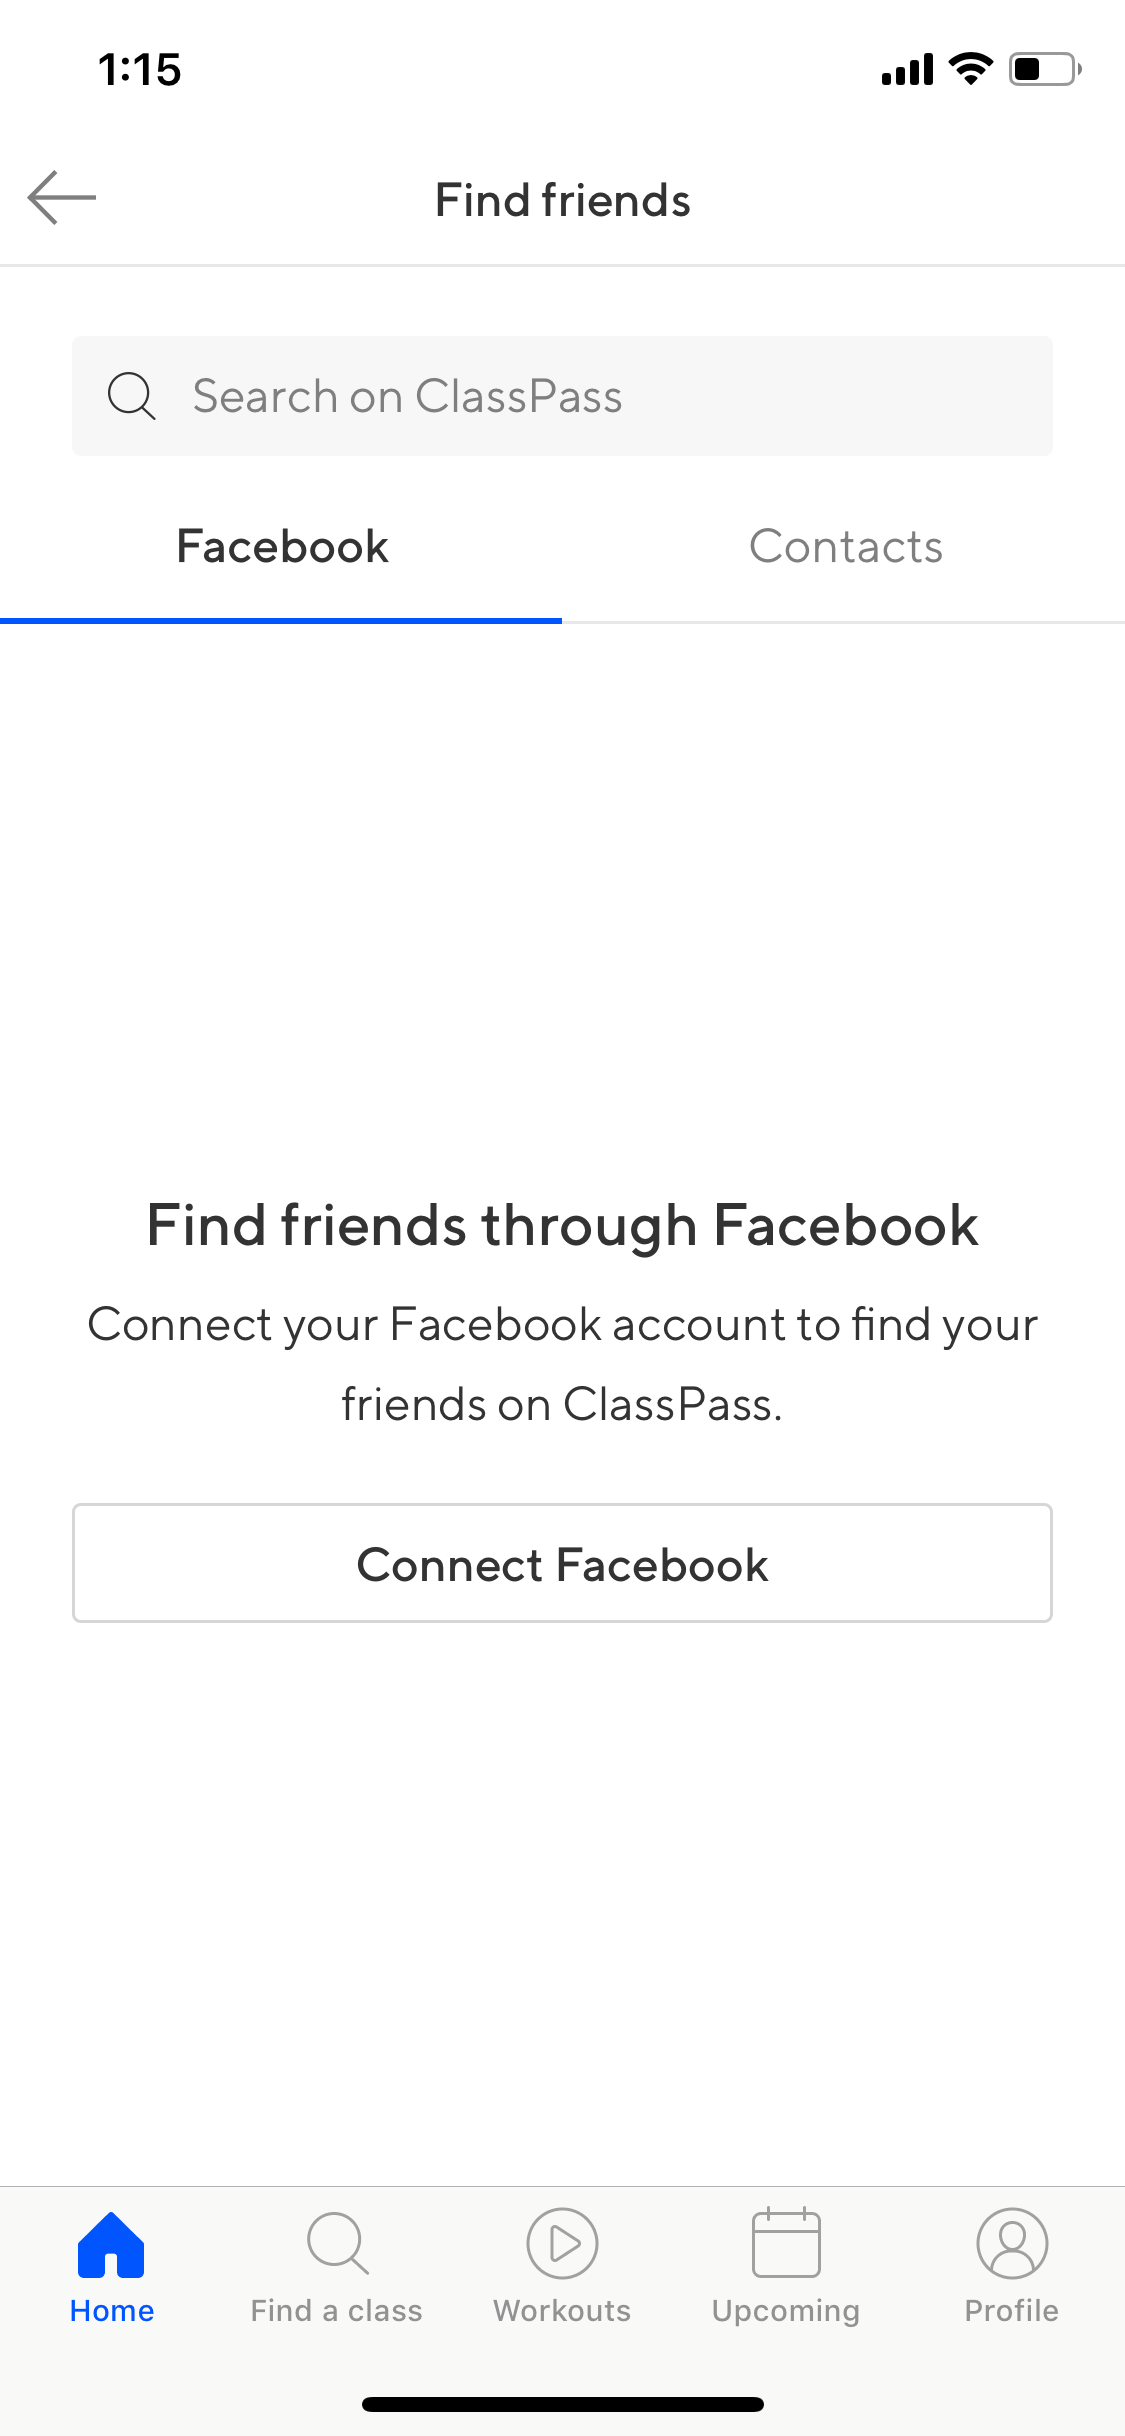Buttons: (59, 1490, 1063, 1644), (2, 134, 118, 252)
